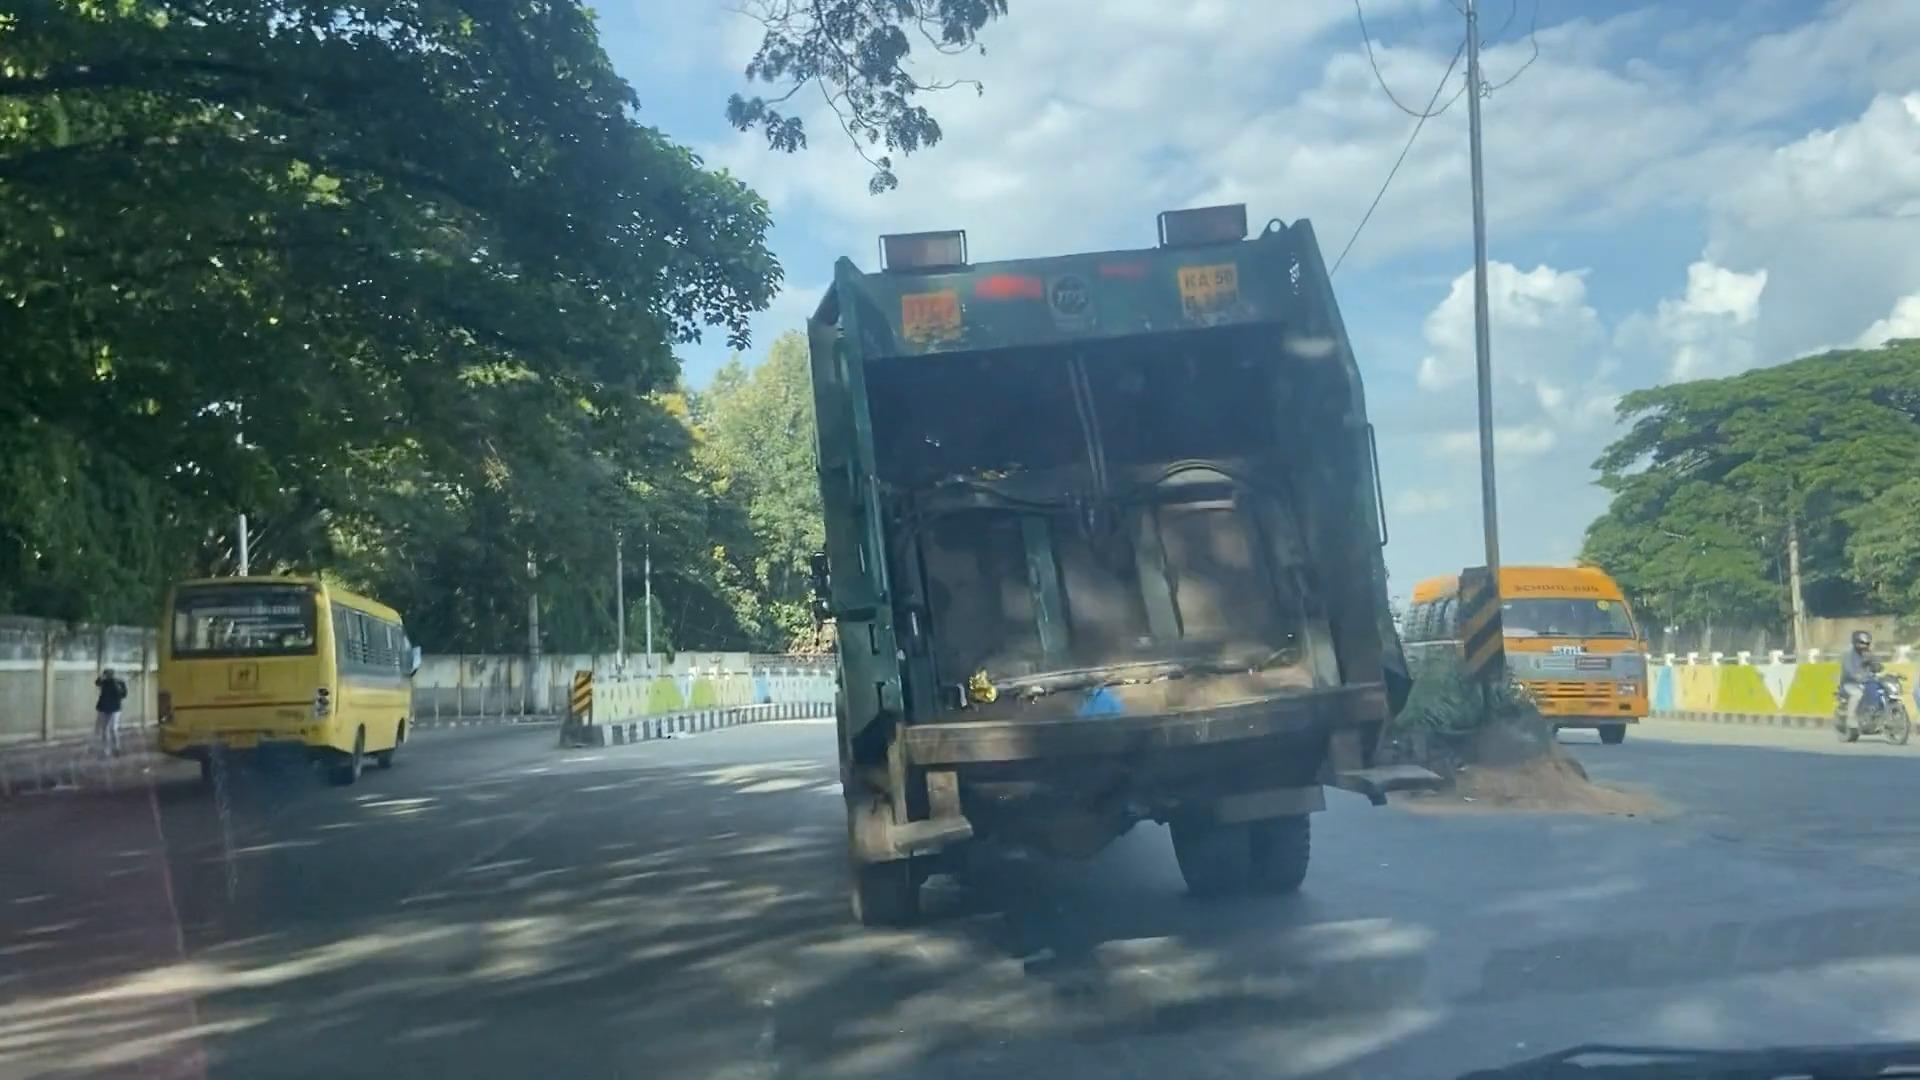HMV: (820, 227, 1375, 930), (160, 585, 414, 800)
